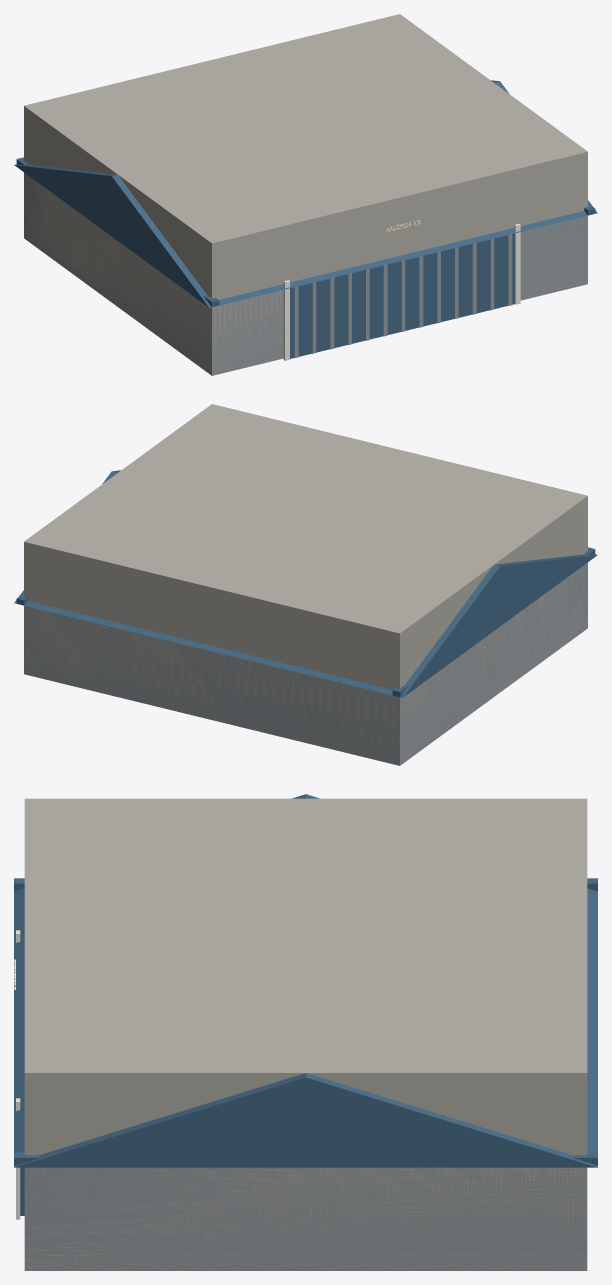
File: BLD_Hangar.fbx
3 renders of one model, top to bottom at view 1: azimuth 30°, elevation 25°; view 2: azimuth 150°, elevation 25°; view 3: azimuth 270°, elevation 25°, orthographic. The views are drawn at different scales.
Visible parts, largest first — view 1: BLD_Hangar__COL_Main, BLD_Hangar__BODY; view 2: BLD_Hangar__COL_Main, BLD_Hangar__BODY; view 3: BLD_Hangar__COL_Main, BLD_Hangar__BODY.
Boxes of the visible parts, <box> form: BLD_Hangar__COL_Main: <box>24,14,587,375</box>; BLD_Hangar__BODY: <box>14,80,597,375</box>; BLD_Hangar__COL_Main: <box>24,404,587,765</box>; BLD_Hangar__BODY: <box>14,470,597,765</box>; BLD_Hangar__COL_Main: <box>24,798,587,1270</box>; BLD_Hangar__BODY: <box>14,794,597,1270</box>.
Bounding box in the file's own units: 31 × 10.1 × 27.
